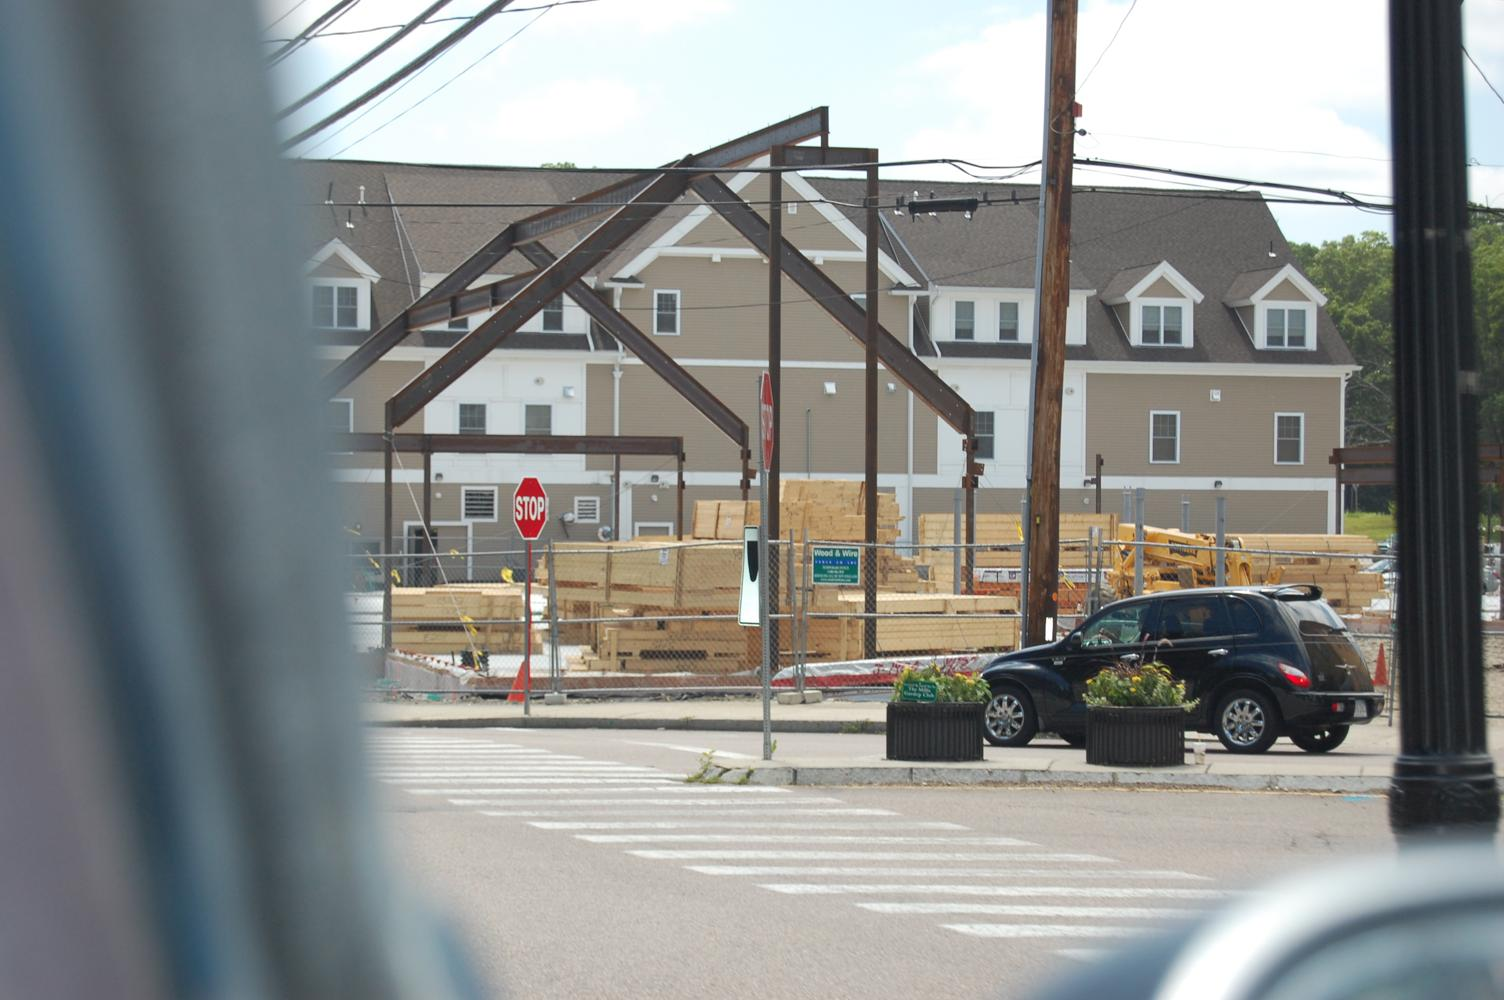car: (946, 597, 1382, 746)
stop: (503, 474, 553, 535)
